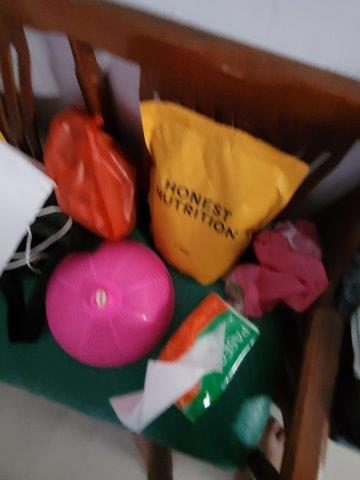plastik: (44, 107, 141, 237)
